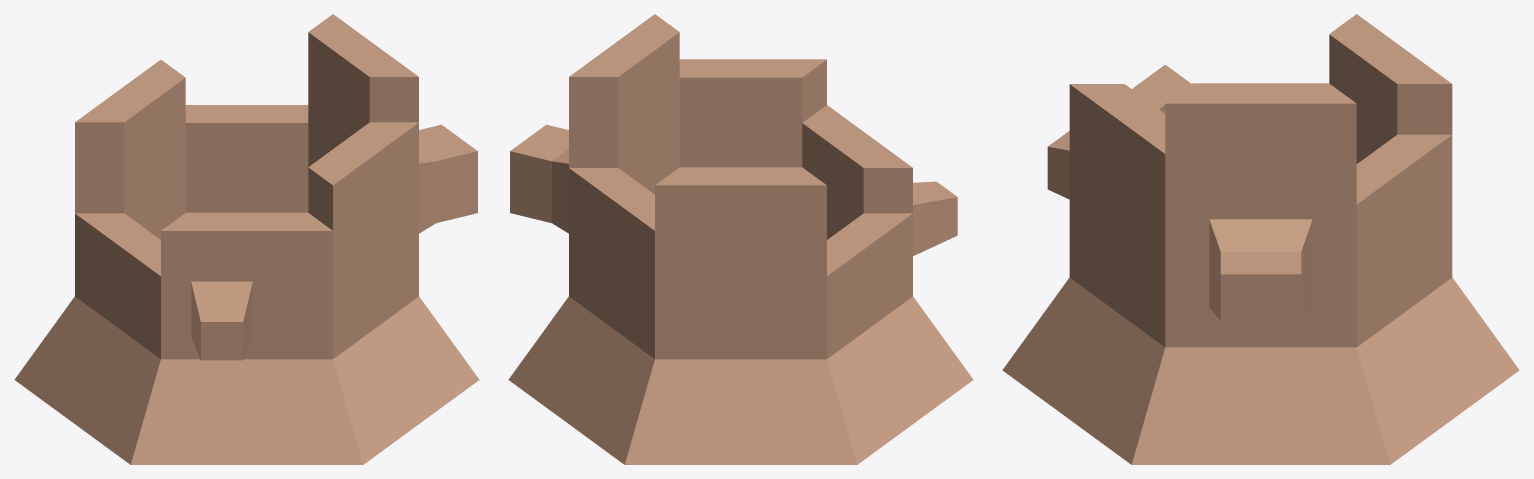
File: stump_old.glb
3 renders of one model, left to right at view 1: azimuth 30°, elevation 25°; view 2: azimuth 150°, elevation 25°; view 3: azimuth 270°, elevation 25°, orthographic. The views are drawn at different scales.
Visible parts, largest first — view 1: stump_old; view 2: stump_old; view 3: stump_old.
Part boxes in pixels (box(x1,y1,x2,y2)): stump_old: box(14, 14, 479, 464); stump_old: box(508, 14, 973, 464); stump_old: box(1002, 14, 1519, 464).
Bounding box in the file's own units: 0.3565 × 0.2665 × 0.371.
